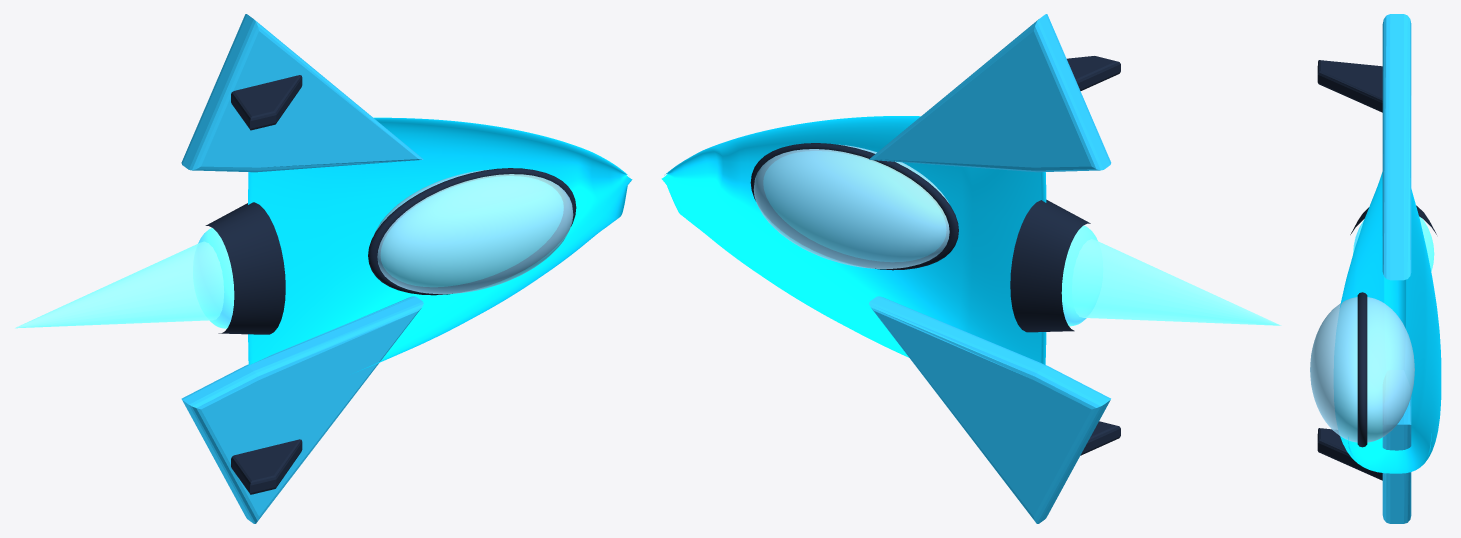
The model's file is ship.glb.
3 views of the same model, side by side, from view 1: azimuth 30°, elevation 25°; view 2: azimuth 150°, elevation 25°; view 3: azimuth 270°, elevation 25° (orthographic).
Parts seen in each view (by area): view 1: hull, wingBottom, cockpit, wingTop, flame, nozzle, engine, cockpit_frame, wingBottom_fin, wingTop_fin; view 2: hull, wingBottom, wingTop, cockpit, flame, nozzle, engine, cockpit_frame, wingTop_fin; view 3: hull, cockpit, wingTop, wingBottom, wingTop_fin, cockpit_frame, wingBottom_fin, engine, nozzle.
Part boxes in pixels (x1,y1,x2,y2): hull: (248,117,632,371); wingBottom: (181,296,423,523); cockpit: (374,169,573,294); wingTop: (181,14,423,172); flame: (15,241,224,328); nozzle: (205,202,285,334); engine: (193,228,234,328); cockpit_frame: (368,168,576,295); wingBottom_fin: (231,439,302,494); wingTop_fin: (231,75,302,130); hull: (661,116,1046,364); wingBottom: (869,296,1110,523); wingTop: (869,14,1111,172); cockpit: (753,144,949,269); flame: (1072,239,1281,325); nozzle: (1010,199,1090,332); engine: (1061,225,1102,326); cockpit_frame: (750,143,958,270); wingTop_fin: (1067,56,1120,90); hull: (1334,172,1441,473); cockpit: (1310,297,1414,442); wingTop: (1382,14,1411,280); wingBottom: (1382,370,1411,523); wingTop_fin: (1317,60,1382,112); cockpit_frame: (1357,292,1367,447); wingBottom_fin: (1317,428,1382,480); engine: (1353,216,1434,271); nozzle: (1350,205,1436,234).
Size of the model in its own units: 42.5 by 33.26 by 8.1.
